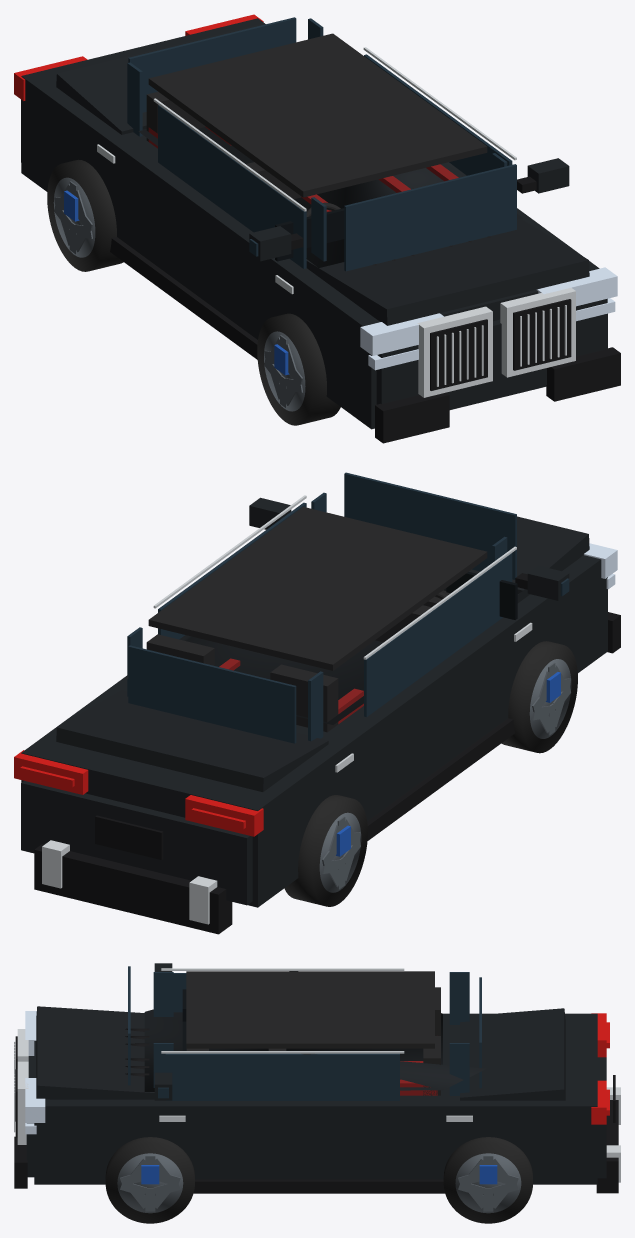
File: bmw_m5_g90_2025.glb
The picture shows the model from 3 angles, top to bottom: view 1: azimuth 30°, elevation 25°; view 2: azimuth 150°, elevation 25°; view 3: azimuth 270°, elevation 25°; orthographic projection. The views are drawn at different scales.
Visible parts, largest first — view 1: Lower body, Headliner, Sculpted hood, Windscreen, Side window, Front bumper, Rear glass, Tire, Trunk lid, Tire.002, Roof and upper greenhouse, Side skirt (+21 smaller); view 2: Lower body, Headliner, Trunk lid, Rear bumper, Rear glass, Side window, Windscreen, Rear diffuser, Tire.002, Tire, Roof and upper greenhouse, Sculpted hood (+18 smaller); view 3: Lower body, Headliner, Side window.001, Sculpted hood, Trunk lid, Roof and upper greenhouse, Side skirt.001, Tire.001, Tire.003, Forged wheel rim.003, Forged wheel rim.001, Rear diffuser (+20 smaller).
Boxes of the visible parts, x1,y1,x2,y2 form: Lower body: (21, 18, 607, 429); Headliner: (148, 33, 487, 197); Sculpted hood: (306, 219, 589, 325); Windscreen: (344, 164, 516, 271); Side window: (158, 105, 306, 268); Front bumper: (376, 298, 607, 408); Rear glass: (128, 17, 296, 112); Tire: (257, 313, 340, 425); Trunk lid: (56, 23, 264, 134); Tire.002: (47, 159, 123, 271); Roof and upper greenhouse: (138, 127, 522, 267); Side skirt: (110, 237, 257, 359); Lower body: (21, 555, 607, 907); Headliner: (148, 506, 487, 670); Trunk lid: (56, 690, 328, 791); Rear bumper: (21, 781, 252, 905); Rear glass: (128, 645, 296, 743); Side window: (364, 553, 512, 717); Windscreen: (344, 472, 516, 579); Rear diffuser: (34, 844, 232, 934); Tire.002: (284, 795, 367, 906); Tire: (501, 641, 577, 753); Roof and upper greenhouse: (123, 588, 522, 724); Sculpted hood: (469, 516, 589, 603); Lower body: (34, 1013, 597, 1184); Headliner: (186, 971, 434, 1048); Side window.001: (165, 1053, 399, 1100); Sculpted hood: (36, 1006, 154, 1099); Trunk lid: (460, 1008, 565, 1100); Roof and upper greenhouse: (144, 971, 486, 1091); Side skirt.001: (193, 1179, 444, 1193); Tire.001: (105, 1137, 194, 1223); Tire.003: (443, 1137, 532, 1223); Forged wheel rim.003: (455, 1153, 521, 1213); Forged wheel rim.001: (117, 1153, 183, 1213); Rear diffuser: (596, 1100, 618, 1193).
Size of what is drawn, in the model's own units: 2.63 by 1.72 by 5.49.
